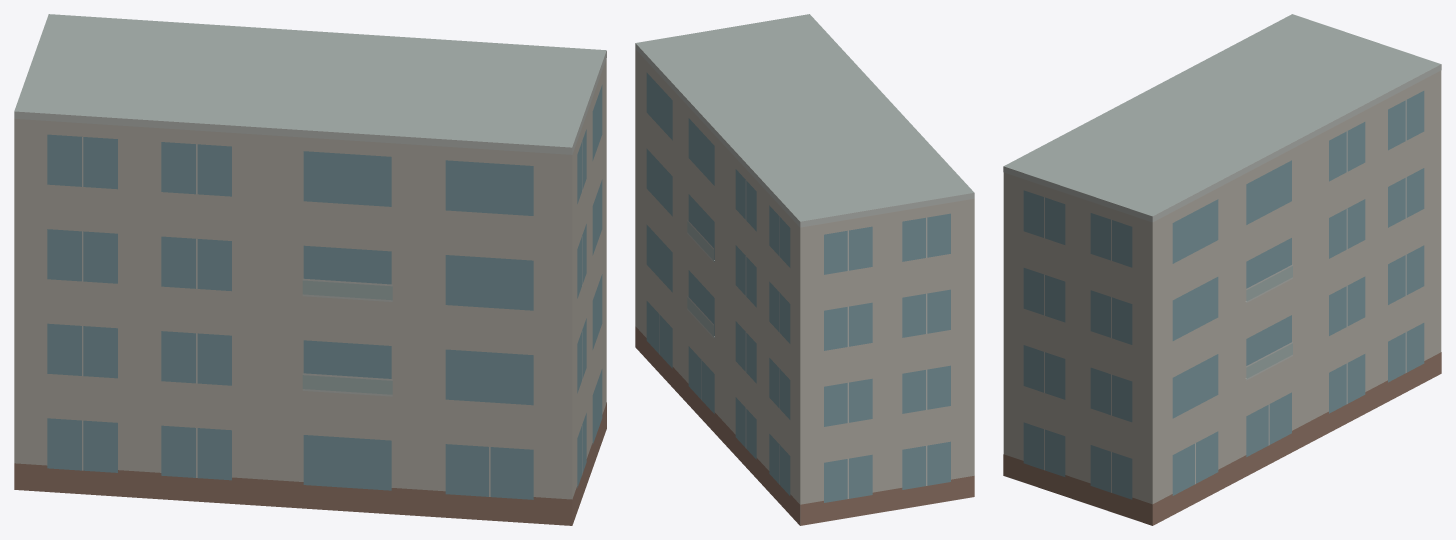
File: survey-upis-32632961.glb
3 views of the same model, side by side, from view 1: azimuth 30°, elevation 25°; view 2: azimuth 150°, elevation 25°; view 3: azimuth 270°, elevation 25° (orthographic). The views are drawn at different scales.
Visible parts, largest first — view 1: survey-upis-32632961.tmp; view 2: survey-upis-32632961.tmp; view 3: survey-upis-32632961.tmp.
Boxes of the visible parts, left/top/right/bottom form: survey-upis-32632961.tmp: left=14, top=14, right=606, bottom=525; survey-upis-32632961.tmp: left=635, top=14, right=974, bottom=525; survey-upis-32632961.tmp: left=1003, top=14, right=1441, bottom=525.
Size of the model in its own units: 17.69 by 12.6 by 16.17.
